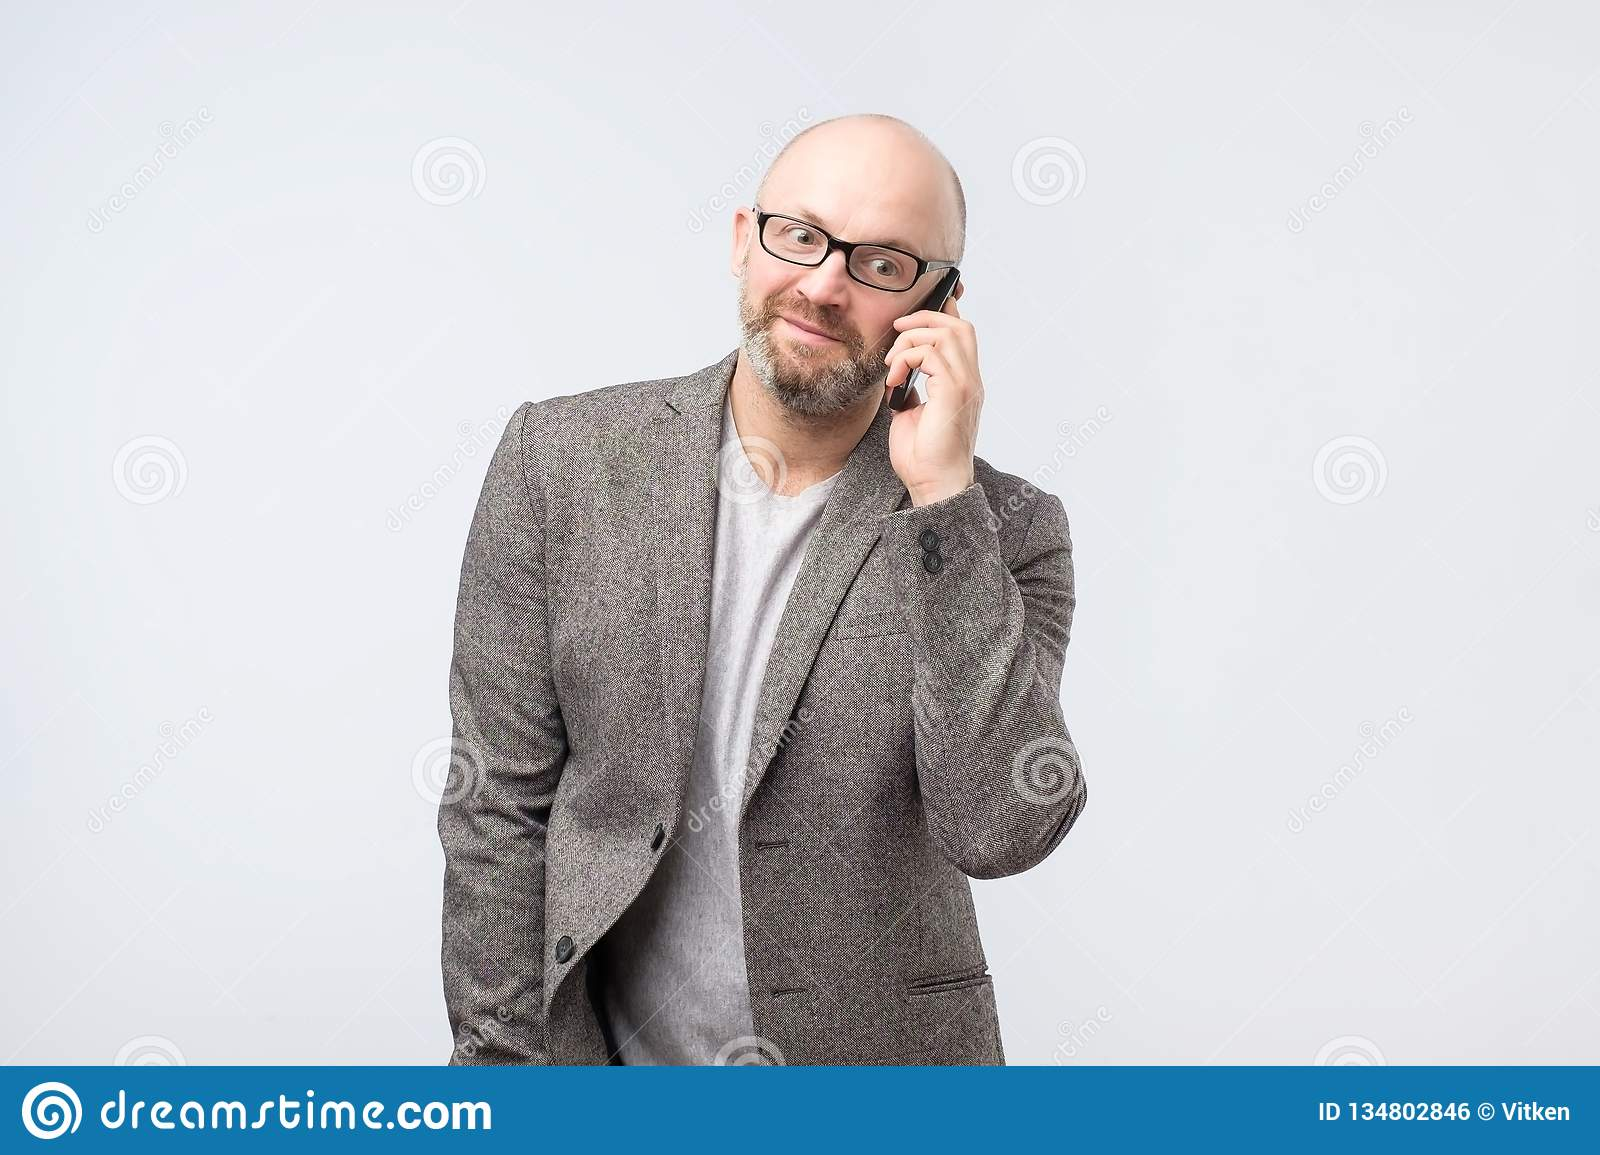phone: (887, 260, 968, 415)
talk: (743, 202, 988, 489)
